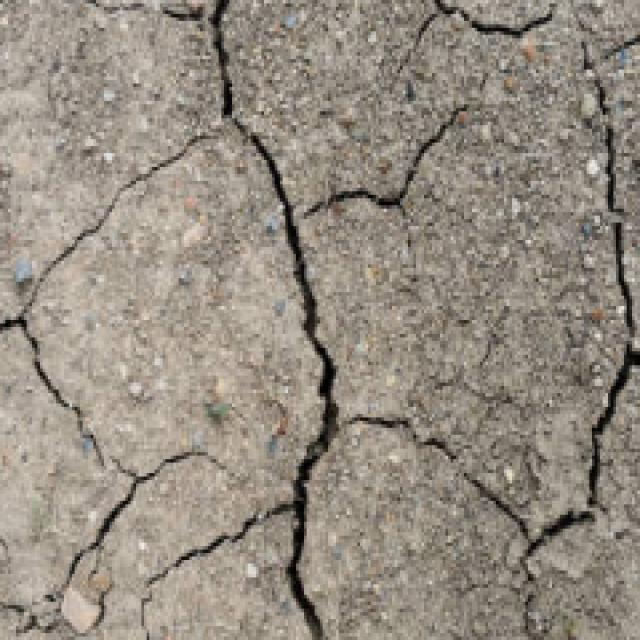branched cracks: (146, 0, 339, 639), (461, 43, 639, 584), (0, 133, 208, 466), (44, 449, 217, 624), (306, 104, 468, 215), (420, 0, 555, 39), (349, 417, 459, 462)
